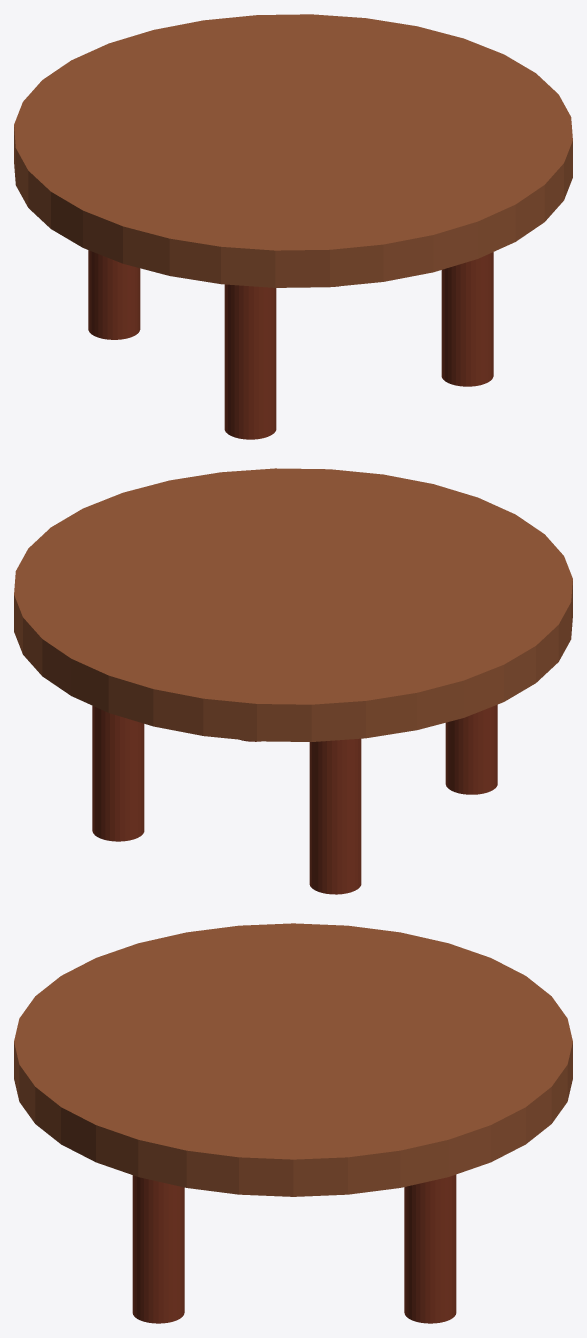
The model's file is M_TableRonde.fbx.
The picture shows the model from 3 angles, top to bottom: view 1: azimuth 30°, elevation 25°; view 2: azimuth 150°, elevation 25°; view 3: azimuth 270°, elevation 25°; orthographic projection.
Parts seen in each view (by area): view 1: Cylindre.008; view 2: Cylindre.008; view 3: Cylindre.008.
Part boxes in pixels (bbox=[...]): Cylindre.008: bbox=[14, 14, 572, 439]; Cylindre.008: bbox=[14, 468, 572, 894]; Cylindre.008: bbox=[14, 923, 572, 1323].
Size of the model in its own units: 420 by 182 by 420.
